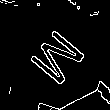M_SE: (21, 21, 89, 89)
